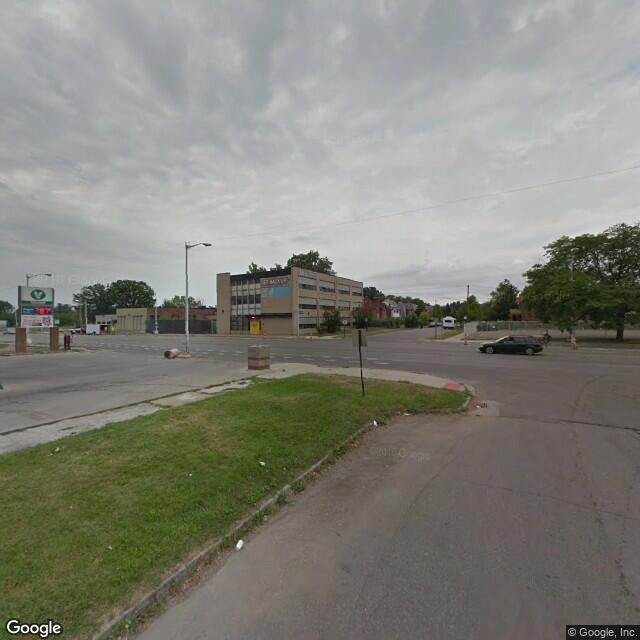litter: (369, 419, 386, 432), (44, 445, 62, 457), (231, 537, 247, 550), (253, 458, 268, 466)
